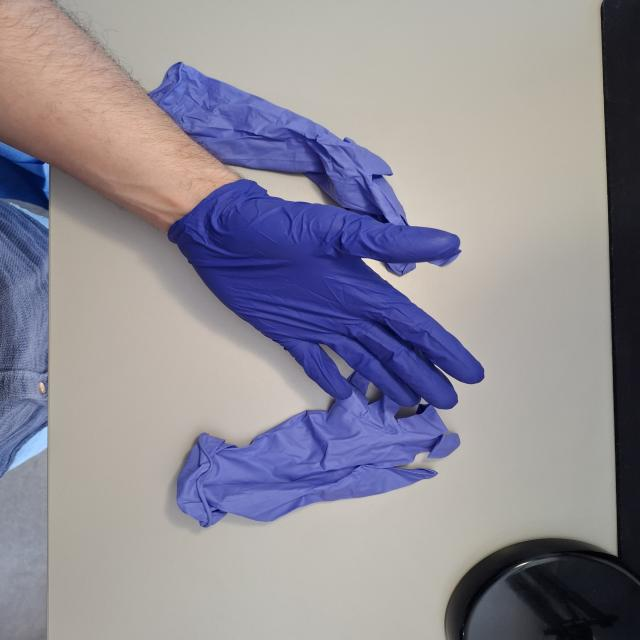glove_on: (168, 176, 490, 411)
